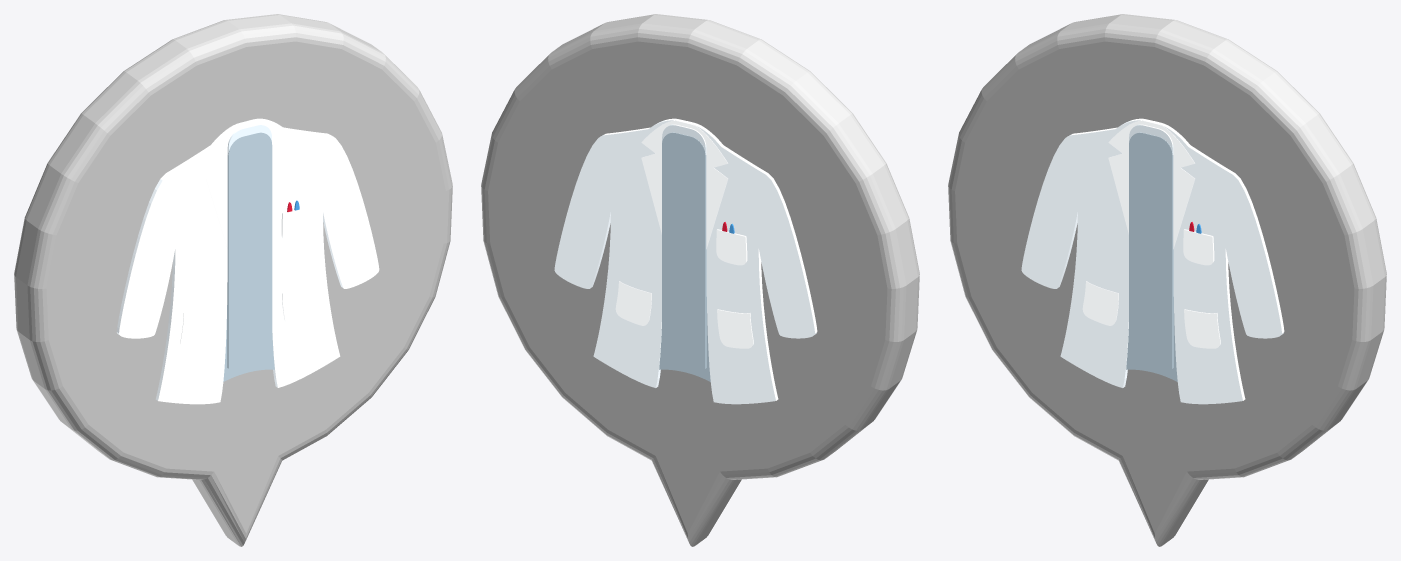
File: lab_coat.glb
3 renders of one model, left to right at view 1: azimuth 30°, elevation 25°; view 2: azimuth 150°, elevation 25°; view 3: azimuth 330°, elevation 25°, orthographic.
Parts seen in each view (by area): view 1: EmotionBubble; view 2: EmotionBubble; view 3: EmotionBubble.
Boxes of the visible parts, x1,y1,x2,y2 form: EmotionBubble: (14, 14, 452, 546); EmotionBubble: (481, 14, 919, 546); EmotionBubble: (948, 14, 1386, 546).
Bounding box in the file's own units: 5.29 × 6.16 × 0.73.
